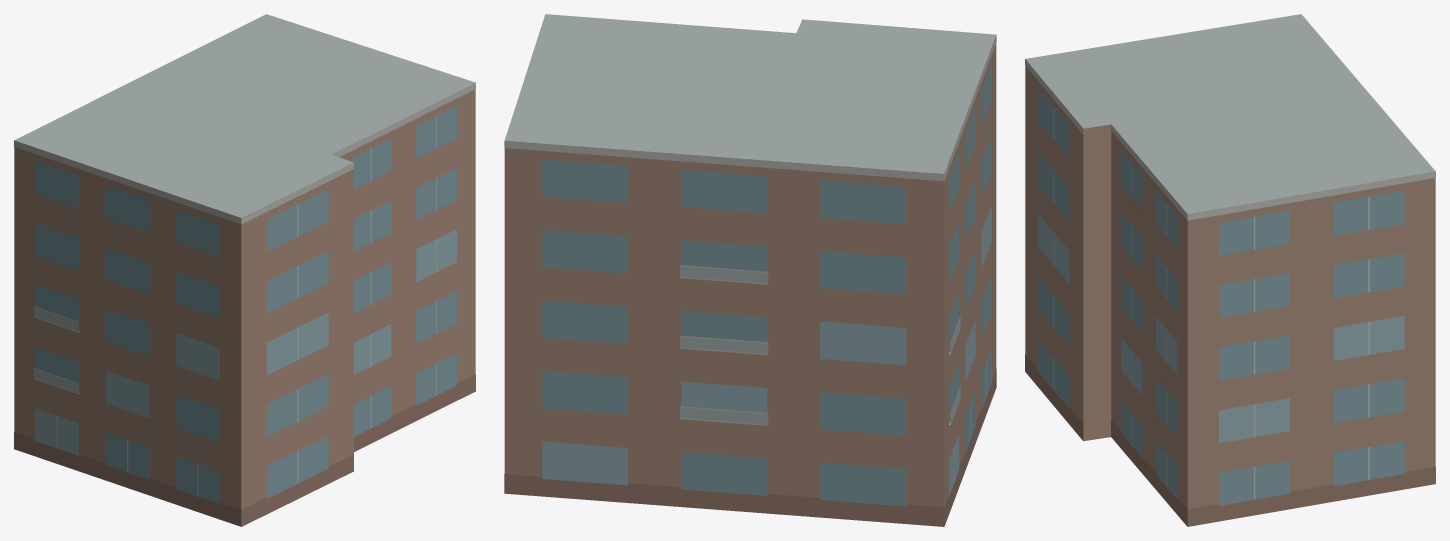
File: survey-upis-32846409.glb
3 views of the same model, side by side, from view 1: azimuth 30°, elevation 25°; view 2: azimuth 150°, elevation 25°; view 3: azimuth 270°, elevation 25° (orthographic). The views are drawn at different scales.
Parts seen in each view (by area): view 1: survey-upis-32846409.tmp; view 2: survey-upis-32846409.tmp; view 3: survey-upis-32846409.tmp.
Part boxes in pixels (<box>): survey-upis-32846409.tmp: <box>14,14,475,526</box>; survey-upis-32846409.tmp: <box>504,14,996,526</box>; survey-upis-32846409.tmp: <box>1025,14,1435,526</box>.
Bounding box in the file's own units: 16.22 × 11.8 × 14.06.
